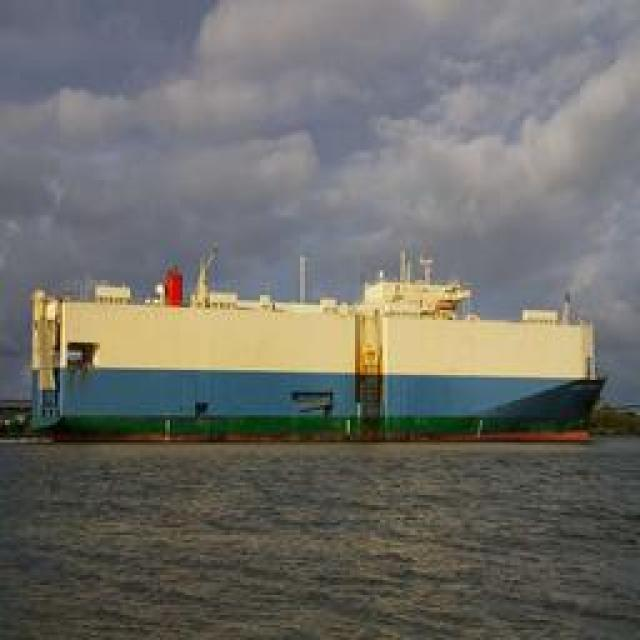CIV_Ship: (16, 268, 622, 444)
